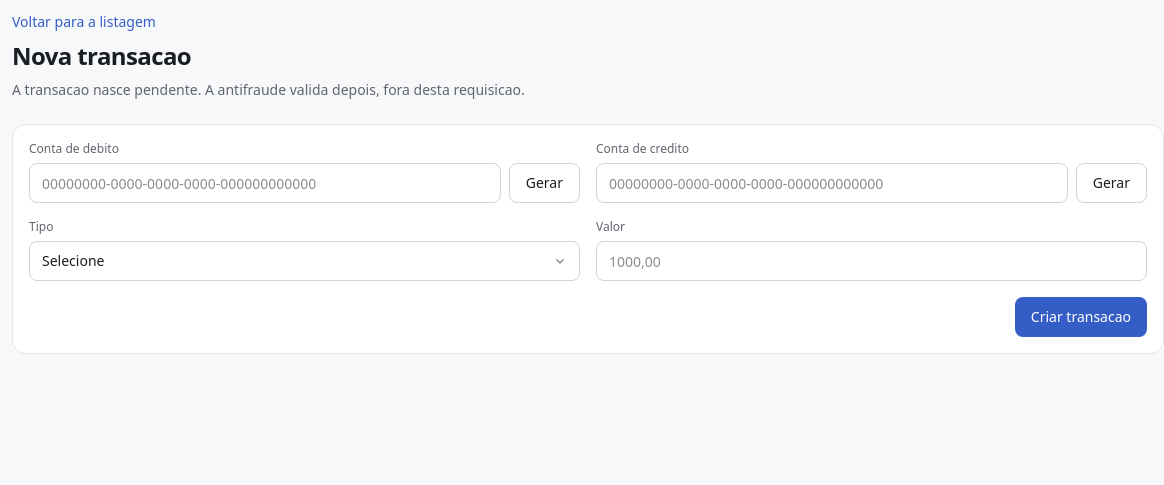
Test case: NewTransactionView › tira o erro do campo assim que ele e corrigido
This screenshot has width=1164, height=485.
Click the button "Criar transacao" at (1081, 317), box [1015, 297, 1147, 337]
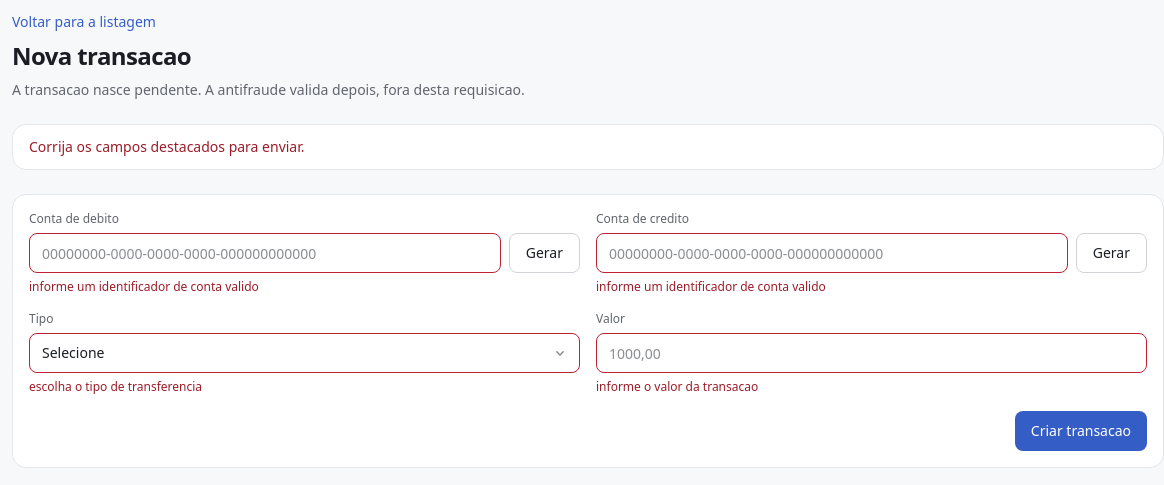
Expected: the text "informe o valor da transacao" is shown, [596, 378, 758, 395]
Type "10" into the field labelled "Valor" at (872, 353), box [596, 333, 1147, 373]
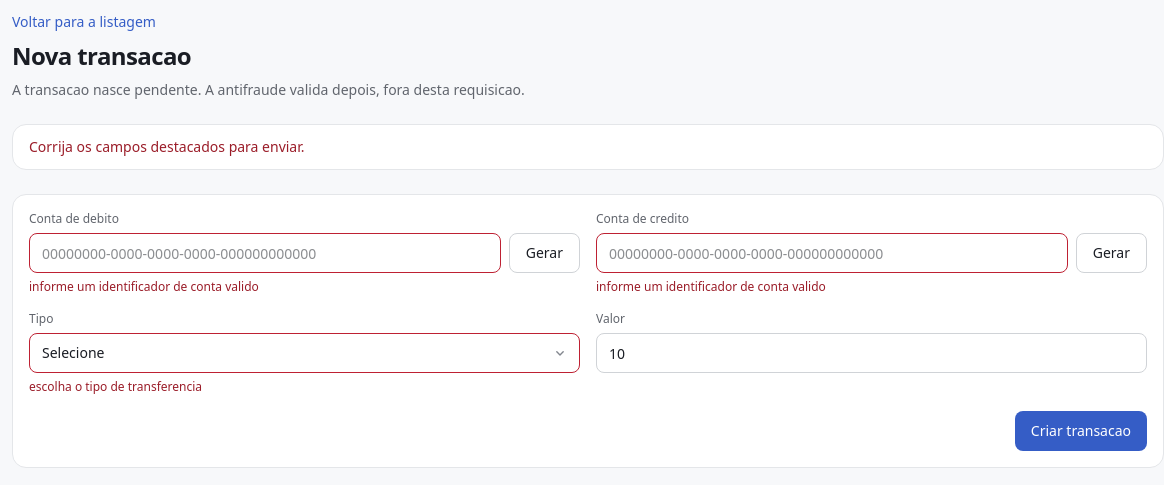
Expected: the text "informe o valor da transacao" is gone
